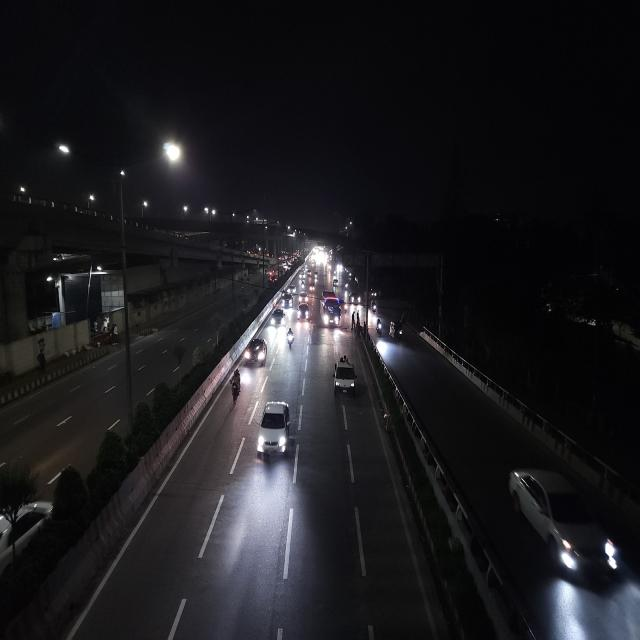bus: (318, 288, 343, 330)
car: (505, 462, 626, 582), (257, 399, 294, 459), (244, 335, 269, 371), (268, 305, 286, 329), (296, 303, 311, 323), (348, 290, 363, 307), (280, 292, 294, 309), (298, 290, 310, 304), (287, 284, 297, 296)
cng: (389, 320, 404, 341), (332, 278, 340, 289), (308, 283, 316, 293)
motorcycle: (227, 367, 244, 407), (284, 326, 296, 351), (375, 318, 382, 336), (371, 300, 378, 315), (300, 280, 306, 290)
pedestrian: (348, 309, 357, 334), (355, 308, 362, 334)
pickup_van: (333, 352, 357, 404)
